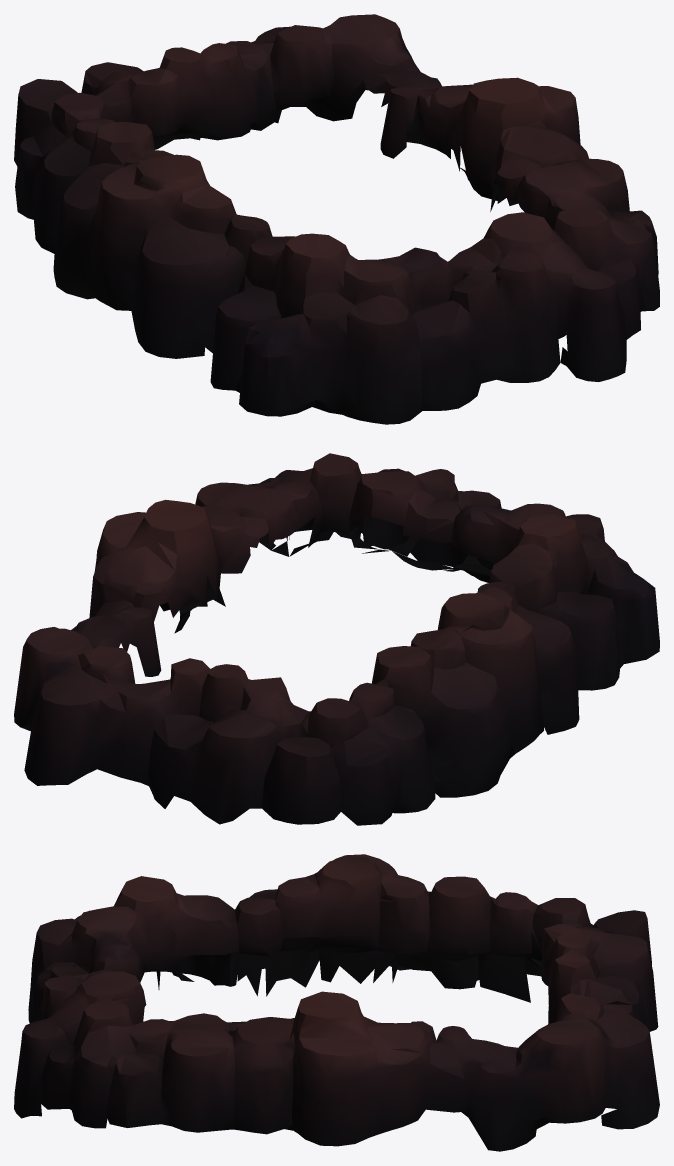
3 renders of one model, top to bottom at view 1: azimuth 30°, elevation 25°; view 2: azimuth 150°, elevation 25°; view 3: azimuth 270°, elevation 25°, orthographic. The views are drawn at different scales.
Visible parts, largest first — view 1: cliffrock_generator59.066; view 2: cliffrock_generator59.066; view 3: cliffrock_generator59.066.
Boxes of the visible parts, <box> form: cliffrock_generator59.066: <box>14,14,659,424</box>; cliffrock_generator59.066: <box>14,453,659,825</box>; cliffrock_generator59.066: <box>14,854,659,1151</box>.
Bounding box in the file's own units: 8139 × 2513 × 10677.
